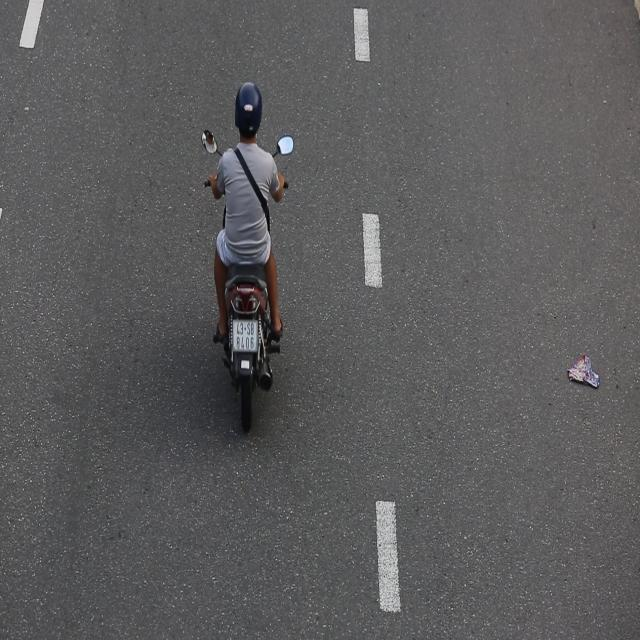motorbike: (195, 80, 306, 439)
